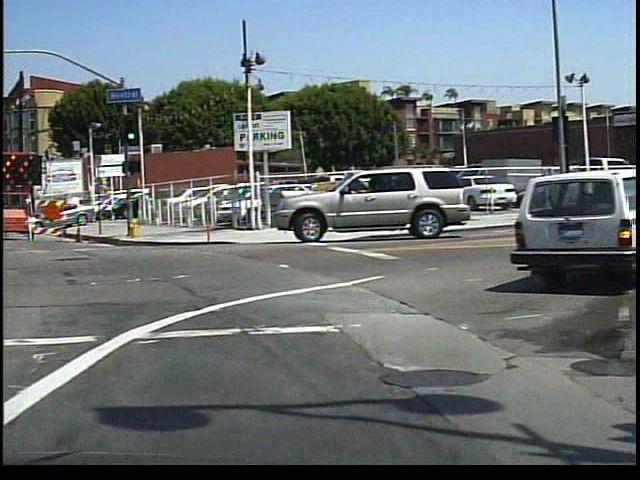person: (573, 162, 593, 206)
